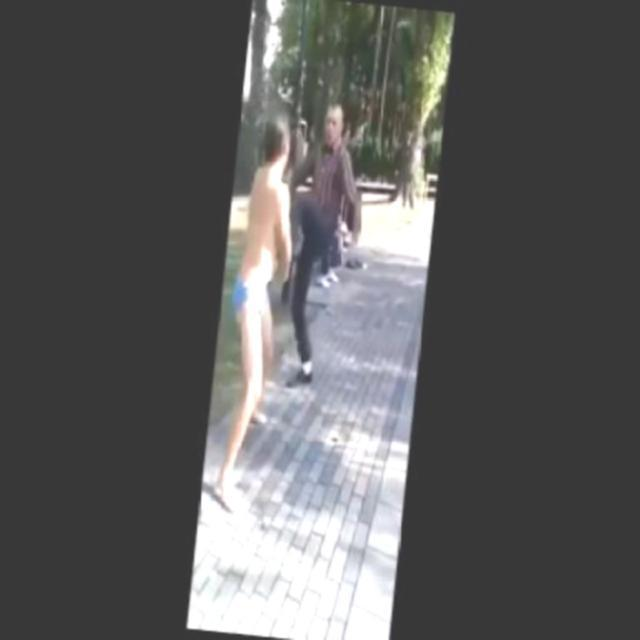fight: (224, 96, 374, 404)
